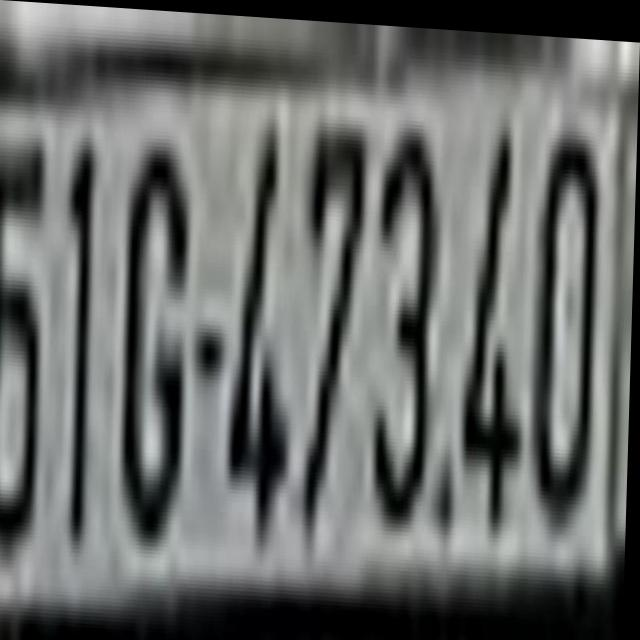0: (526, 106, 603, 524)
1: (65, 136, 105, 537)
3: (368, 89, 443, 524)
4: (226, 121, 298, 543), (458, 91, 528, 521)
5: (0, 124, 52, 554)
7: (293, 105, 370, 539)
G: (118, 119, 195, 534)
